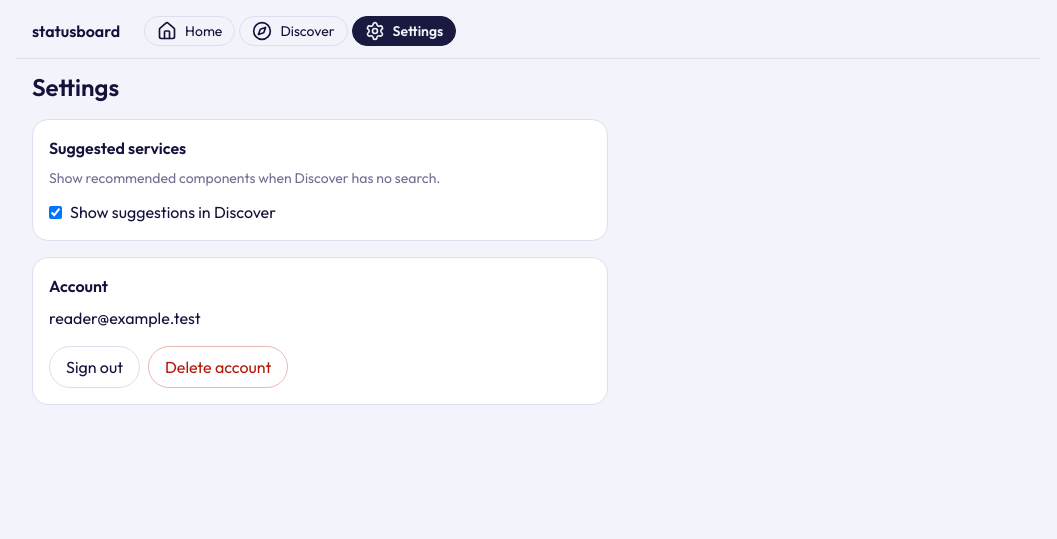
Test case: account deletion requires a second action and clears the session
Click the button "Delete account" at point(218, 367), box [148,346,288,388]
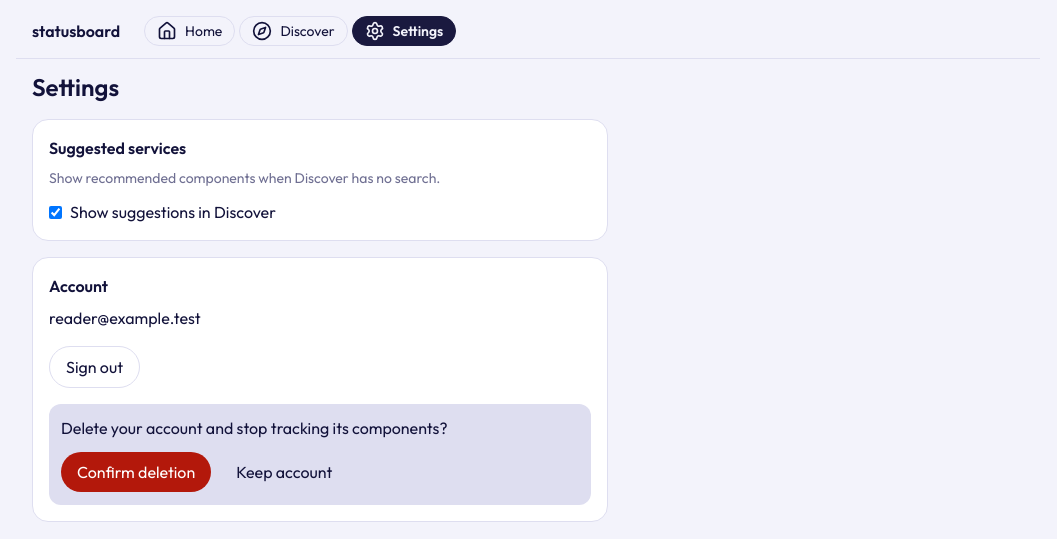
Click the button "Confirm deletion" at point(136, 472), box [61,452,211,492]
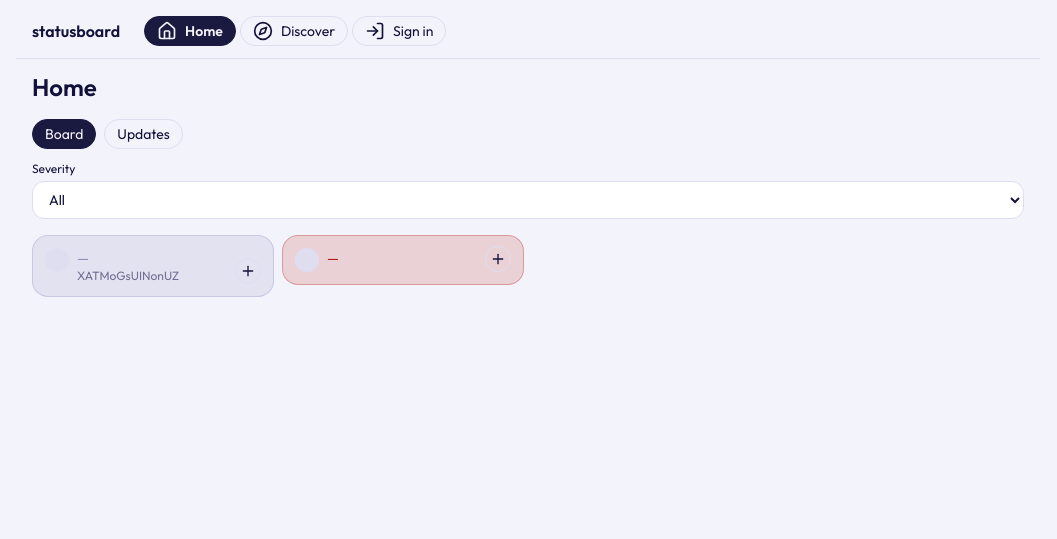
Now the heading "Home" is shown, box [32,72,97,102]
